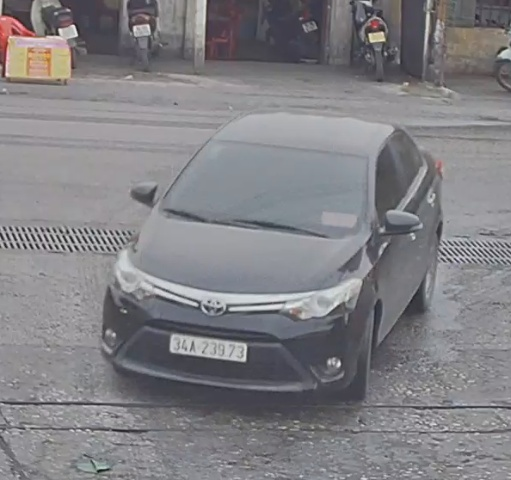vehicle plate: (168, 328, 264, 366)
